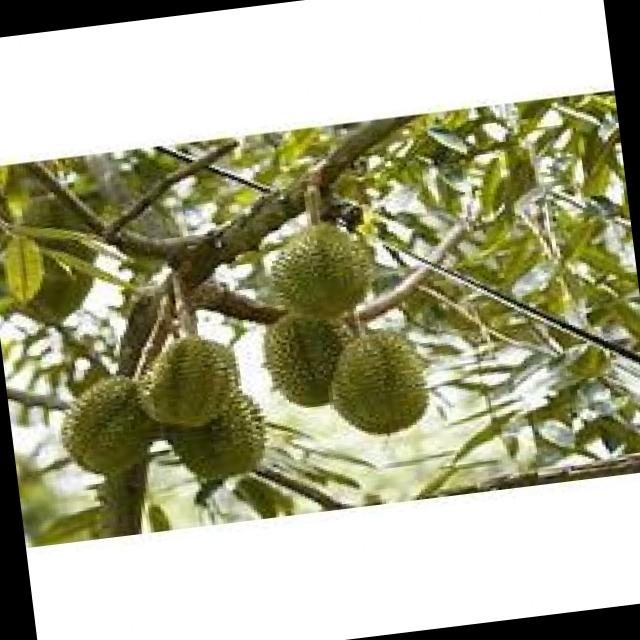fruit: (132, 312, 288, 502), (252, 202, 392, 344), (314, 308, 446, 449), (45, 364, 169, 488), (248, 296, 364, 420)
